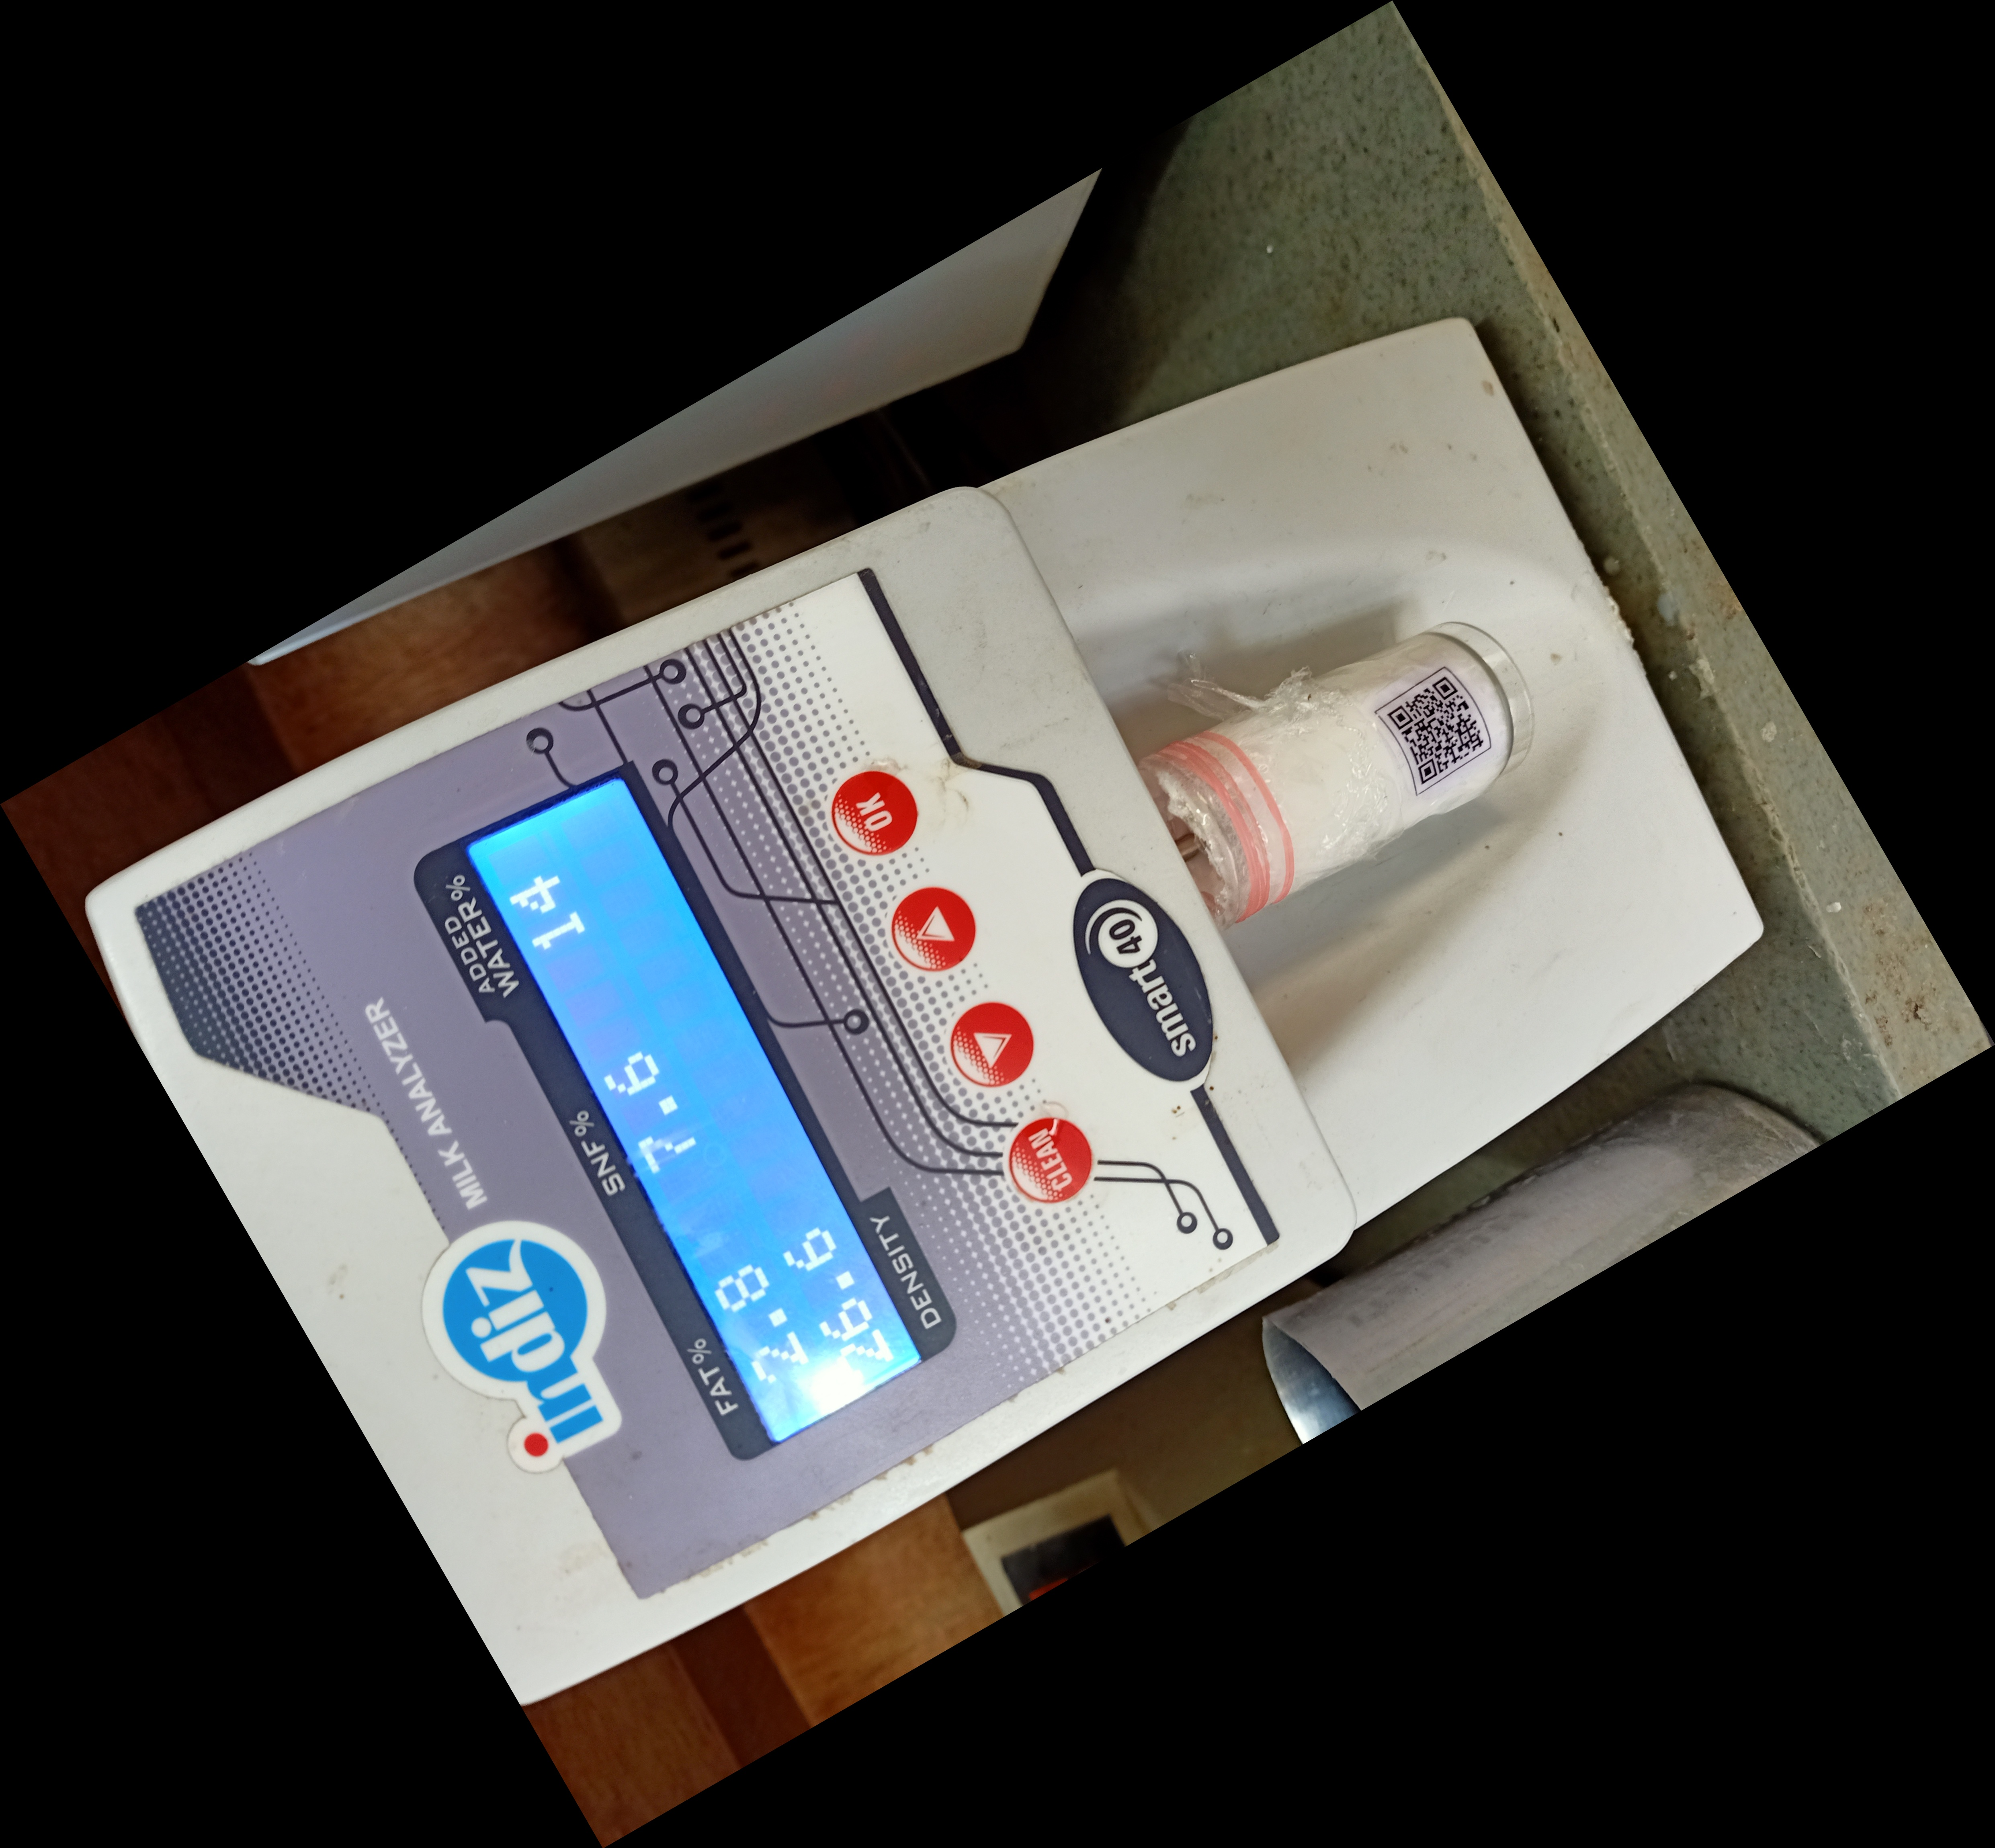lcd: (441, 772, 944, 1464)
